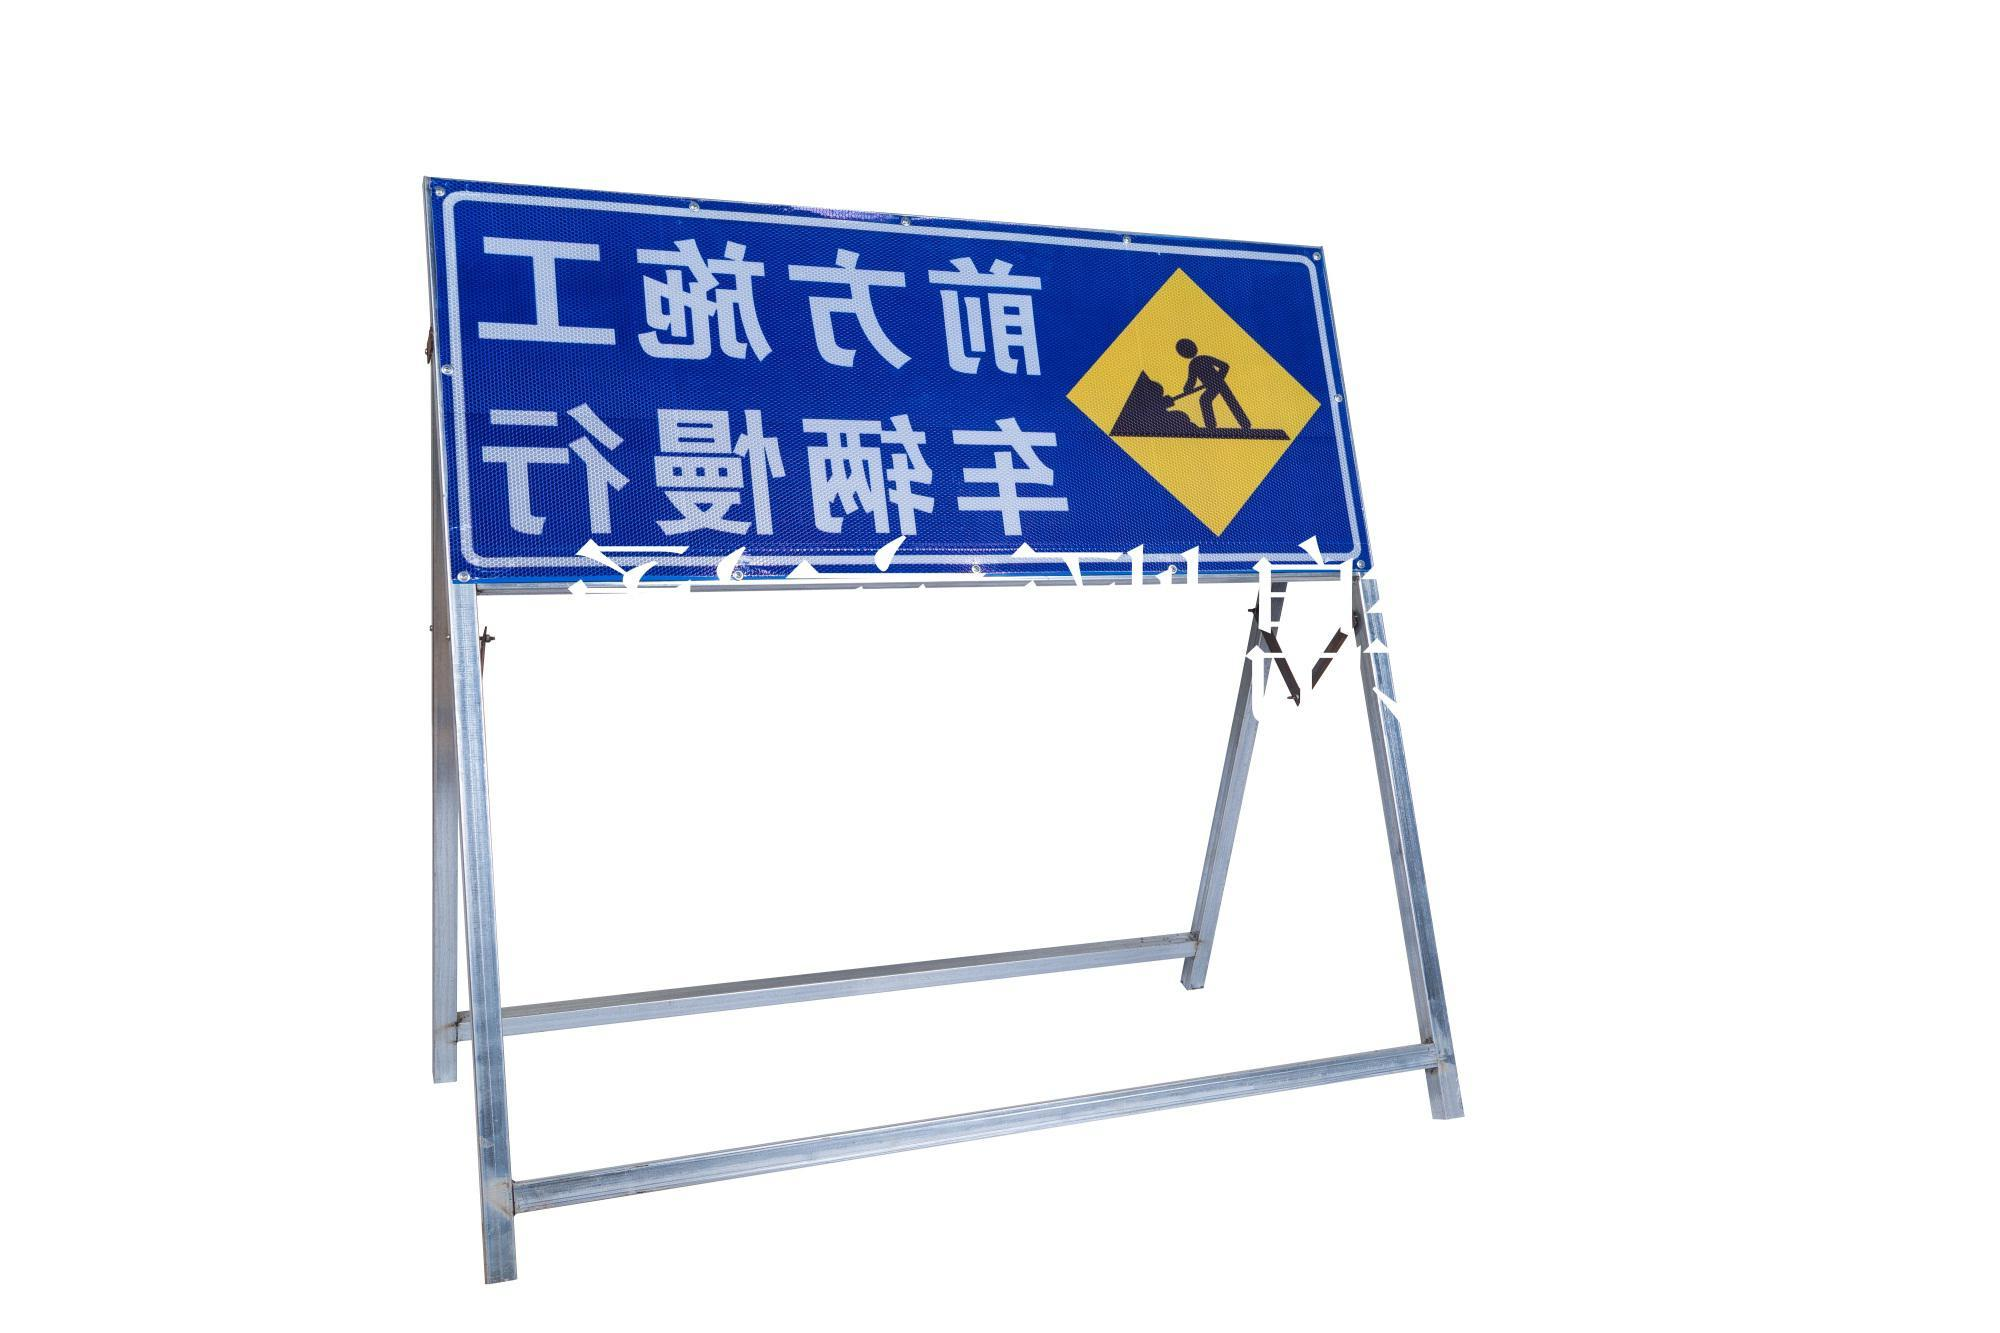sign: (425, 196, 1374, 591)
